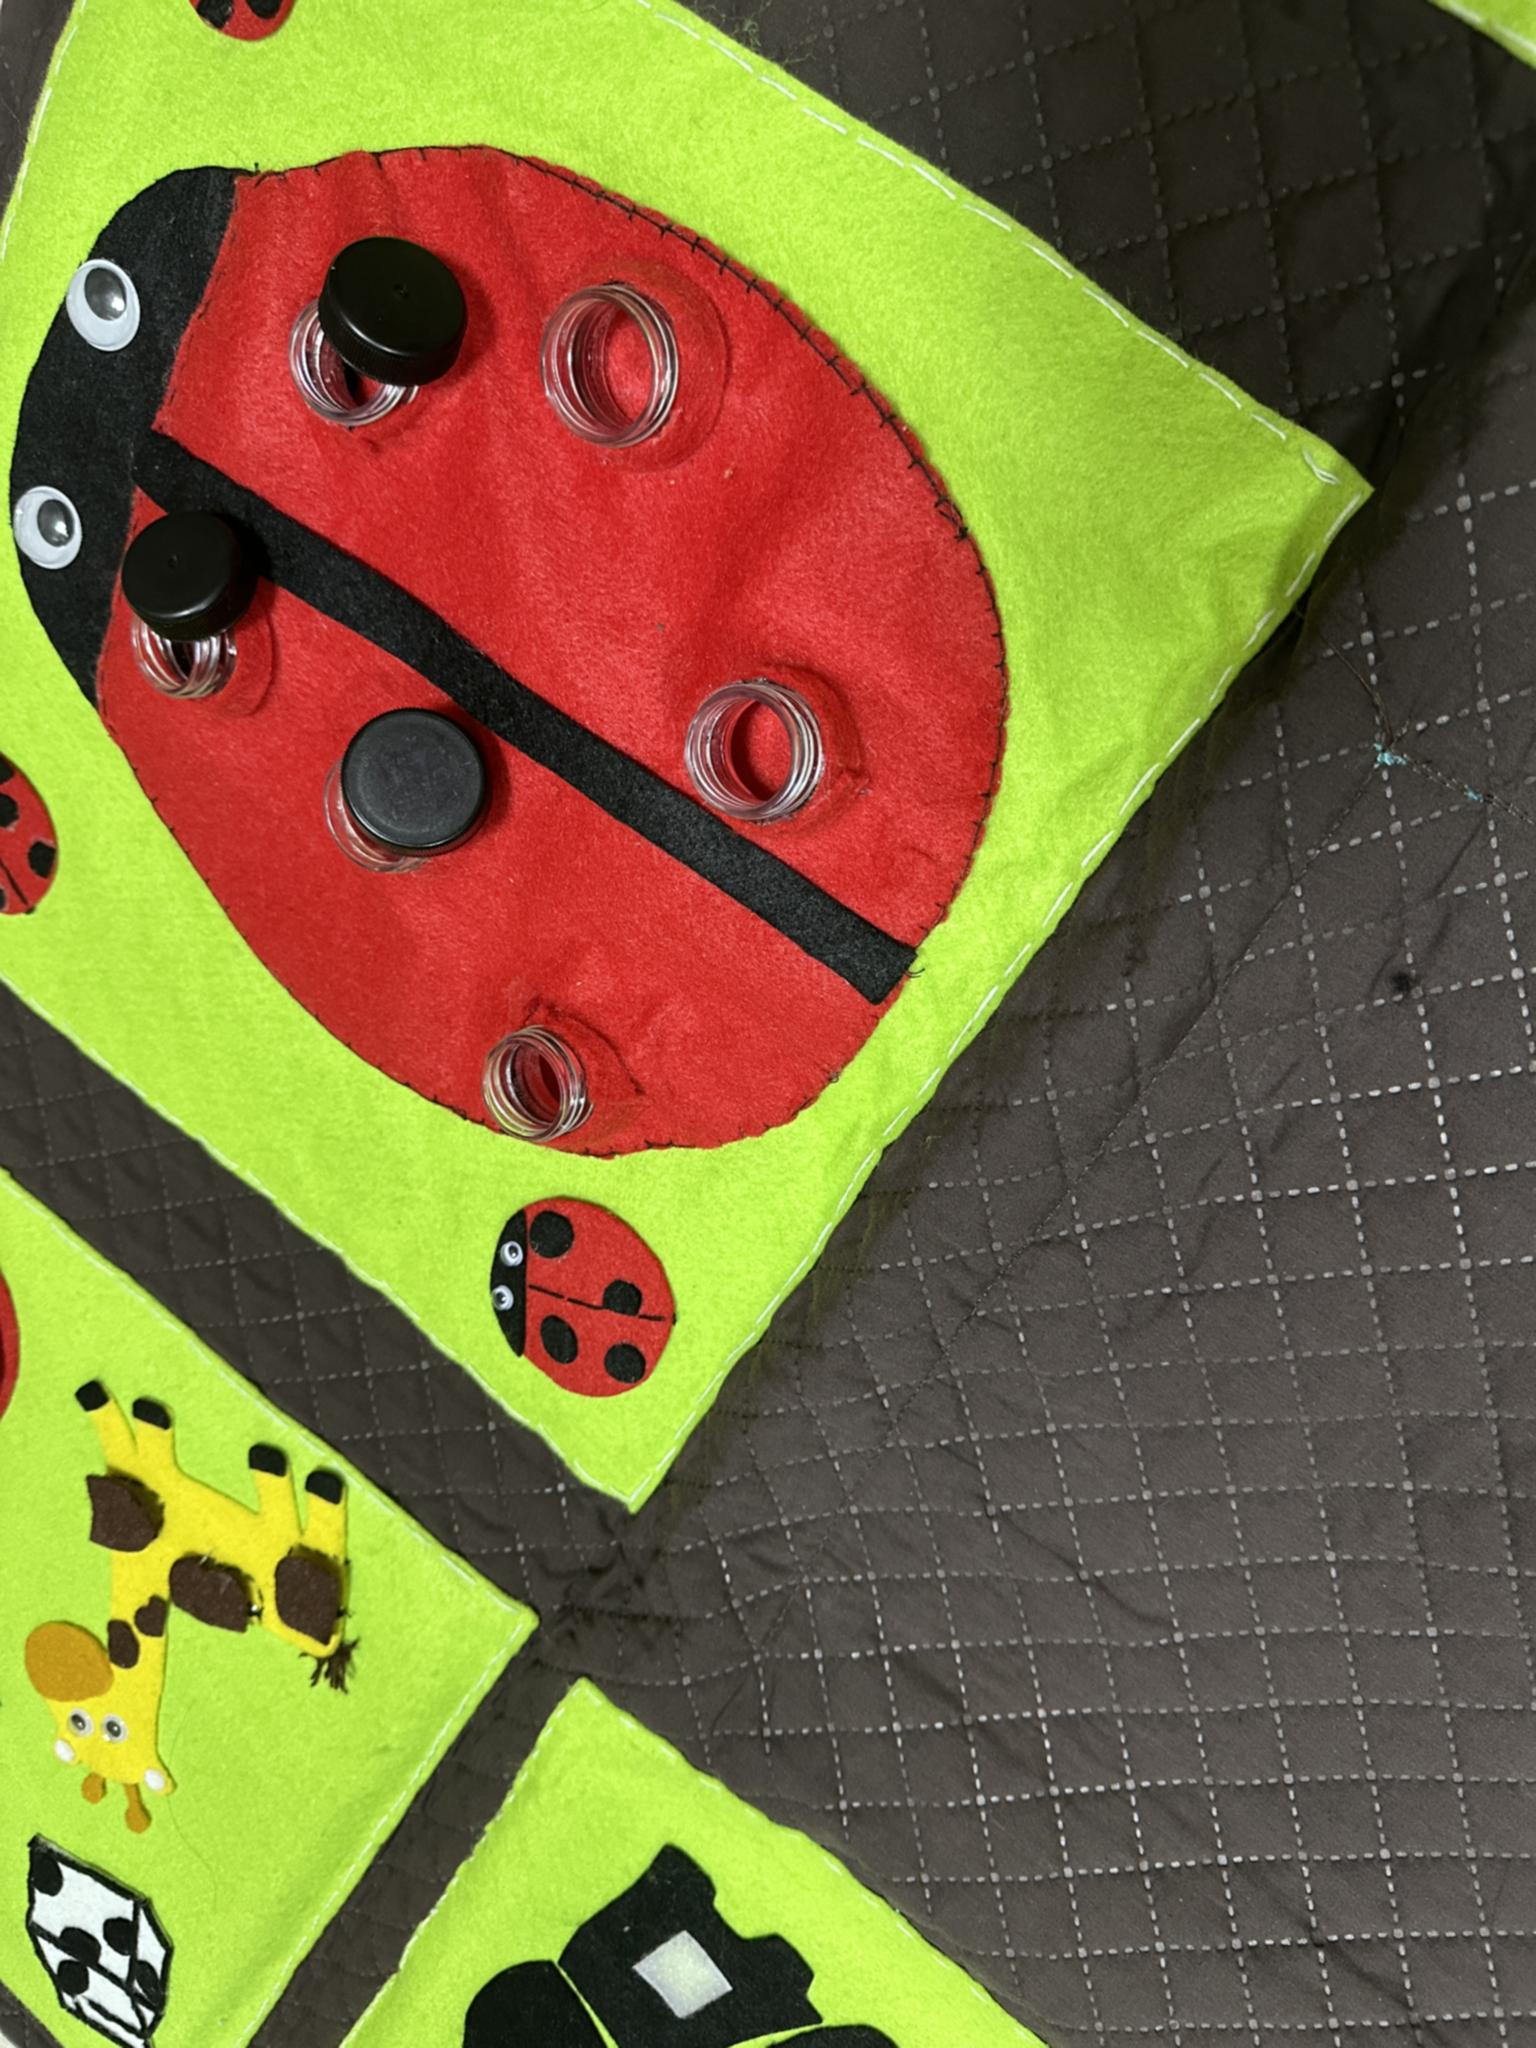cap_ng: (253, 214, 486, 452), (289, 685, 534, 905), (87, 490, 284, 721)
